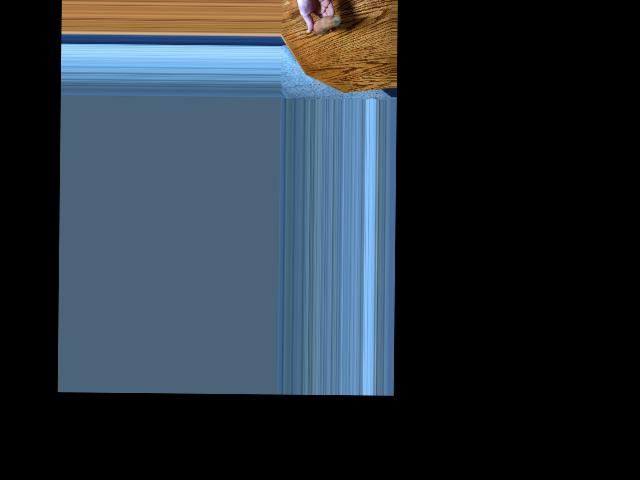sweet_potato: (311, 12, 341, 31)
